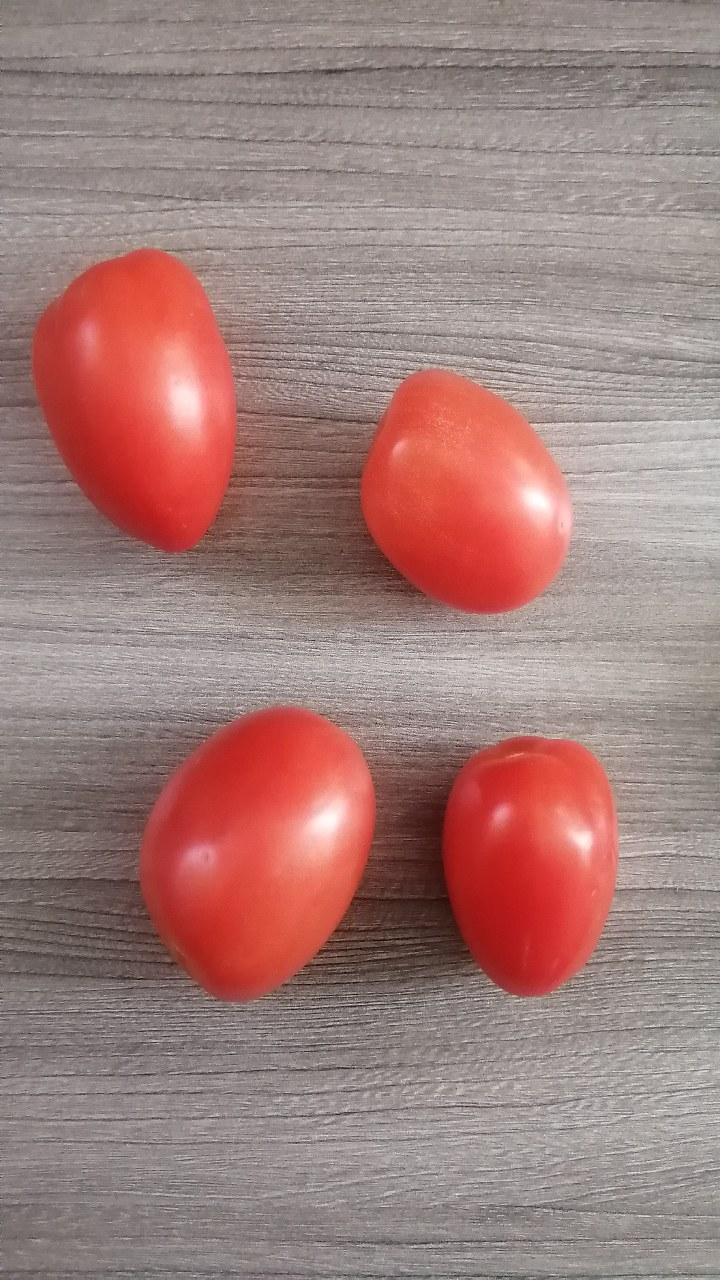tomateRojo: (91, 683, 397, 1014), (18, 232, 260, 577), (331, 352, 594, 631), (418, 720, 669, 1003)
